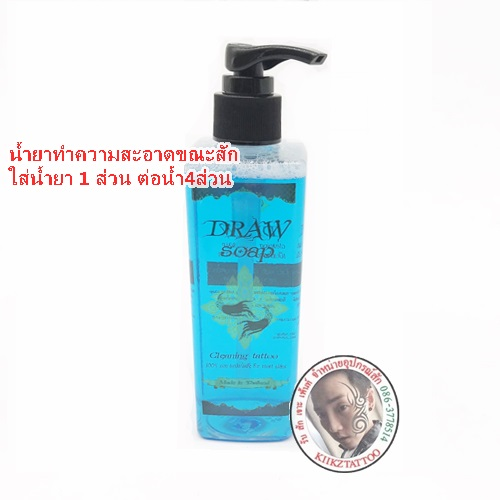Cleaning_solution: (172, 38, 339, 452)
